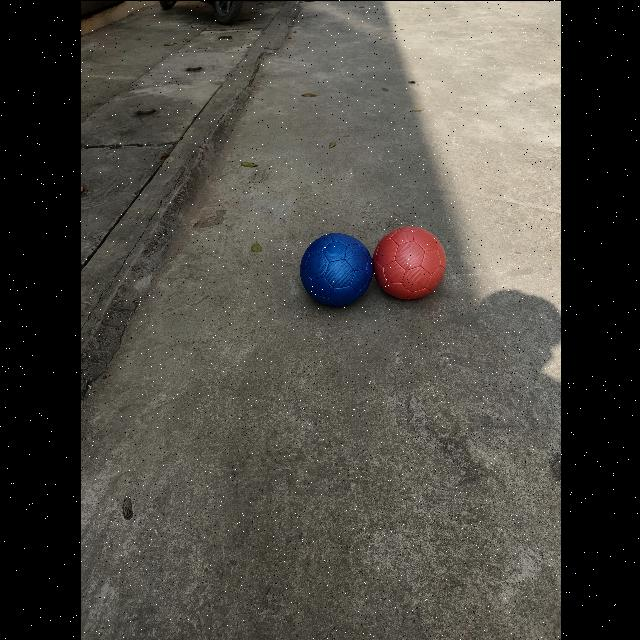B: (297, 233, 372, 310)
R: (371, 226, 446, 303)
